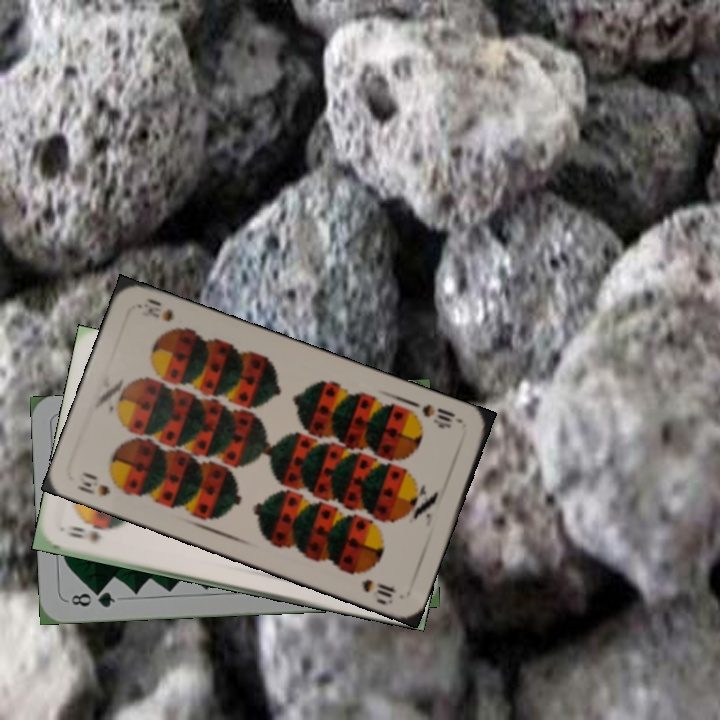G8: (67, 587, 118, 610)
S10: (73, 467, 129, 498), (417, 400, 465, 431)
SO: (63, 521, 104, 545)
